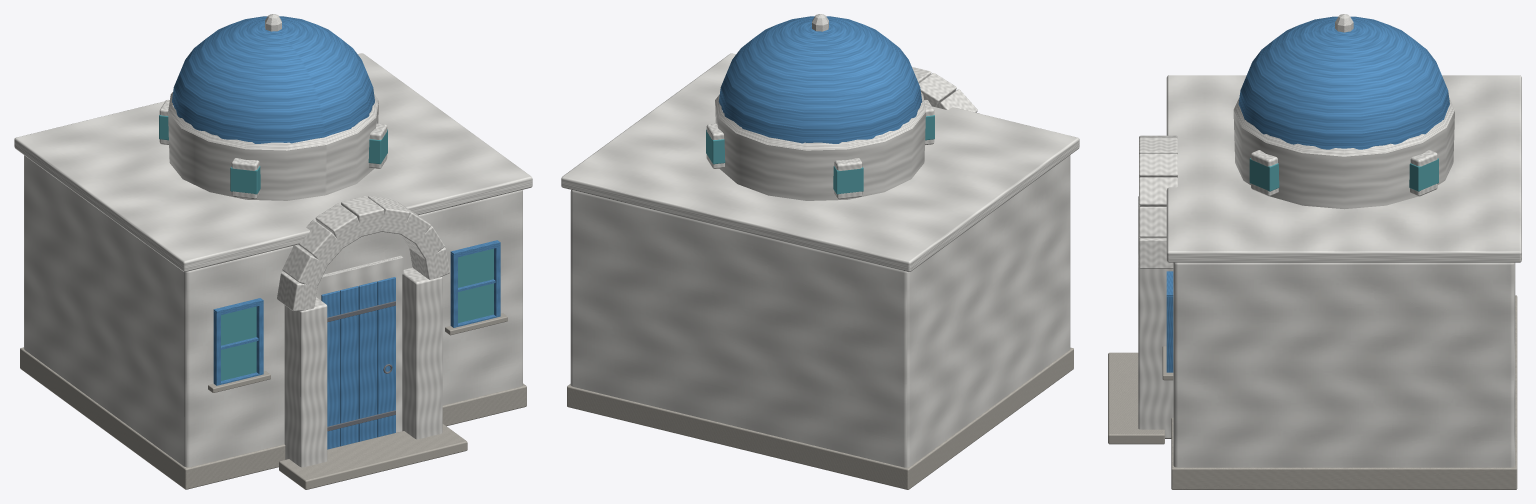
Rendered from greek-island-village-and-harbour-domed-chapel-aca3b02e__37075.glb.
3 renders of one model, left to right at view 1: azimuth 30°, elevation 25°; view 2: azimuth 150°, elevation 25°; view 3: azimuth 270°, elevation 25°, orthographic. The views are drawn at different scales.
Visible parts, largest first — view 1: domed-chapel, door/blue, door/iron; view 2: domed-chapel; view 3: domed-chapel.
Boxes of the visible parts, x1,y1,x2,y2 form: domed-chapel: (14, 14, 532, 489); door/blue: (321, 277, 395, 449); door/iron: (327, 301, 395, 431); domed-chapel: (561, 14, 1079, 489); domed-chapel: (1108, 14, 1521, 489).
Size of the model in its own units: 5.16 by 5.28 by 5.08.
5 materials, 3 textured.
